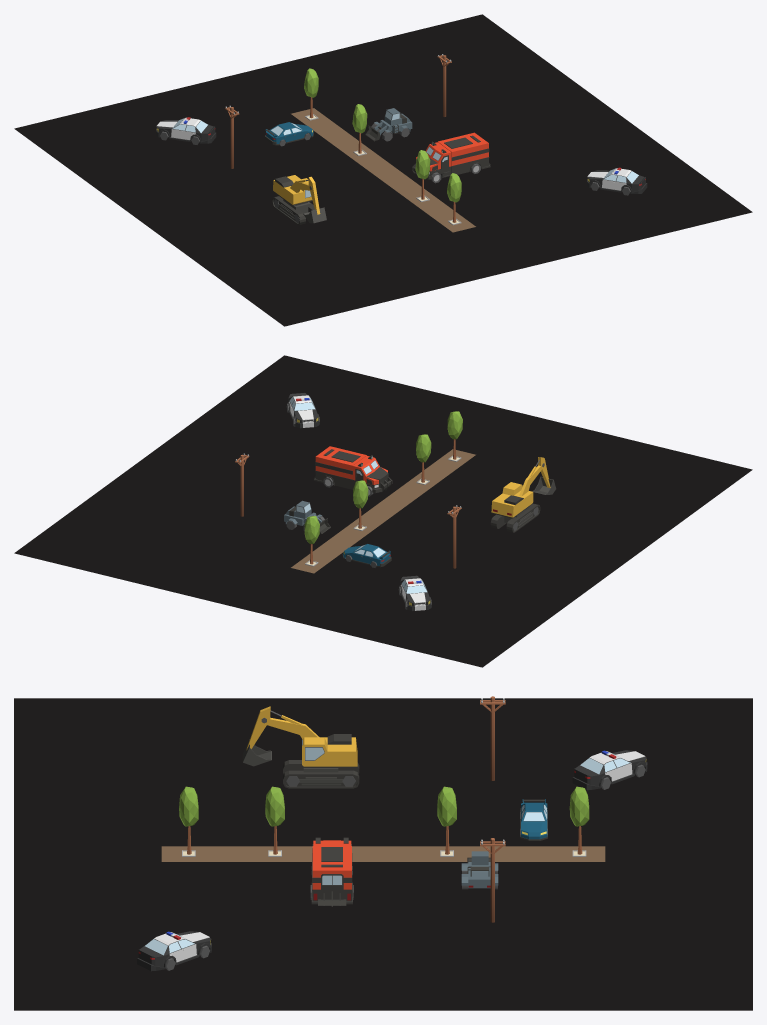
File: Tile 13_Combined.fbx
3 renders of one model, top to bottom at view 1: azimuth 30°, elevation 25°; view 2: azimuth 150°, elevation 25°; view 3: azimuth 270°, elevation 25°, orthographic. The views are drawn at different scales.
Visible parts, largest first — view 1: MeshBaker_Cluster_0_mesh_mesh; view 2: MeshBaker_Cluster_0_mesh_mesh; view 3: MeshBaker_Cluster_0_mesh_mesh.
Part boxes in pixels (x1,y1,x2,y2): MeshBaker_Cluster_0_mesh_mesh: (14, 14, 752, 326); MeshBaker_Cluster_0_mesh_mesh: (14, 355, 752, 667); MeshBaker_Cluster_0_mesh_mesh: (14, 696, 752, 1010).
Bounding box in the file's own units: 3000 × 371 × 3000.
